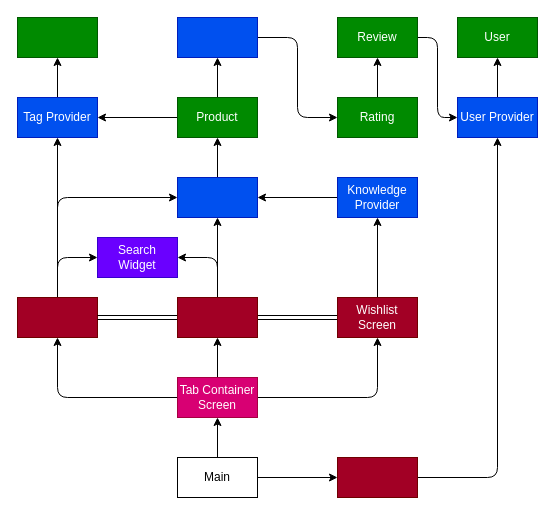
Image size: 555x515. Some labels were removed from this diagram. Each missing label, with the centre of its shape:
"Login Screen" goes at point 377,477.
"Product List Screen" goes at point 57,317.
"Product Provider" goes at point 217,197.
"Product Screen" goes at point 217,317.
"Rating Provider" goes at point 217,37.
"Tag" goes at point 57,37.
